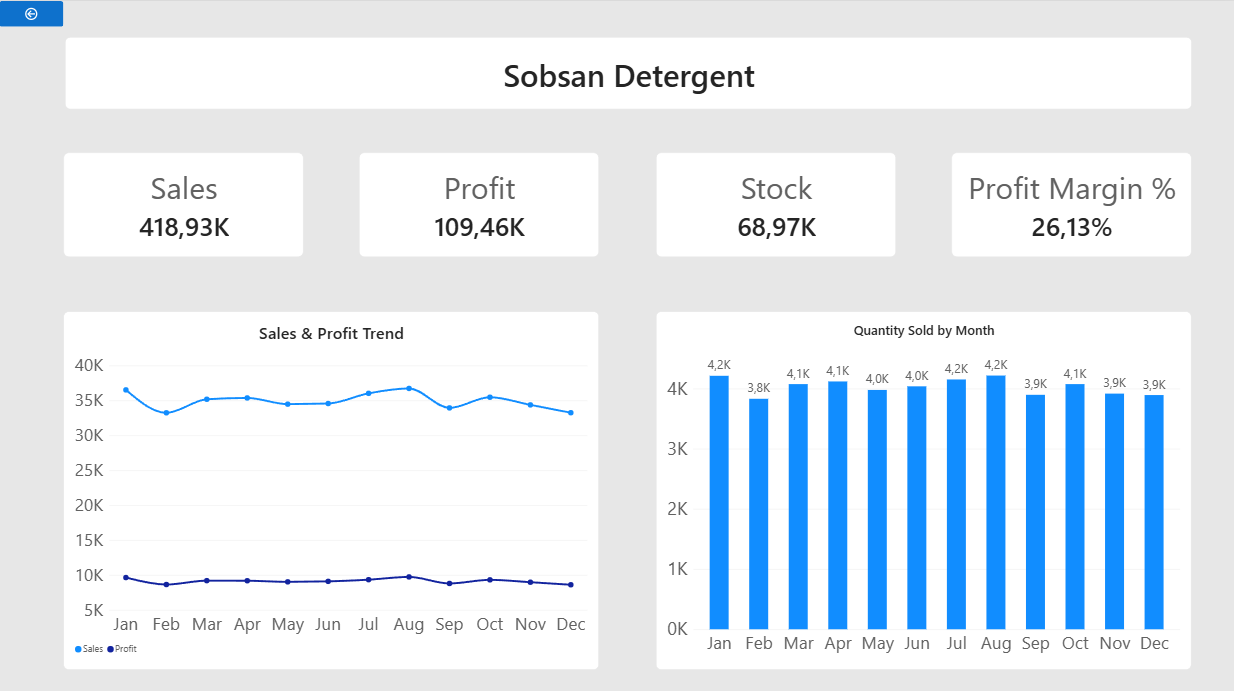

The dashboard page shown, as its layout file describes it:
{"tool":"powerbi","page":{"name":"Product Details","canvas":[1920,1080],"ordinal":5},"visuals":[{"type":"actionButton","box":[0,0,100,40],"z":0},{"type":"cardVisual","fields":{"Data":["Min(DimProduct.ProductName)"]},"box":[100,0,1747.5,112.5],"z":1000},{"type":"cardVisual","fields":{"Data":["_Measures.Sales"]},"box":[100,167.5,372.5,162.5],"z":2000},{"type":"cardVisual","fields":{"Data":["_Measures.Profit"]},"box":[557.5,167.5,372.5,162.5],"z":3000},{"type":"cardVisual","fields":{"Data":["_Measures.Profit Margin %"]},"box":[1475,167.5,372.5,162.5],"z":4000},{"type":"cardVisual","fields":{"Data":["_Measures.Total Inventory QTY"]},"box":[1017.5,167.5,372.5,162.5],"z":5000},{"type":"lineChart","title":"Sales & Profit Trend","fields":{"Category":["DimDate.MonthName"],"Y":["_Measures.Sales","_Measures.Profit"]},"box":[100,397.5,830,555],"z":6000},{"type":"clusteredColumnChart","title":"Quantity Sold by Month","fields":{"Y":["Sum(FactSales.Quantity)"],"Category":["DimDate.MonthName"]},"box":[1017.5,397.5,830,555],"z":7000}]}

Visuals, with their boxes in screenshot pixels (x1, y1, x2, y2), scaled from the page's 1920x1080 canvas onto the 1234x691 screenshot:
actionButton: detection(0, 0, 64, 26)
cardVisual - Min(DimProduct.ProductName): detection(64, 0, 1187, 72)
cardVisual - _Measures.Sales: detection(64, 107, 304, 211)
cardVisual - _Measures.Profit: detection(358, 107, 598, 211)
cardVisual - _Measures.Profit Margin %: detection(948, 107, 1187, 211)
cardVisual - _Measures.Total Inventory QTY: detection(654, 107, 893, 211)
"Sales & Profit Trend" lineChart: detection(64, 254, 598, 609)
"Quantity Sold by Month" clusteredColumnChart: detection(654, 254, 1187, 609)
